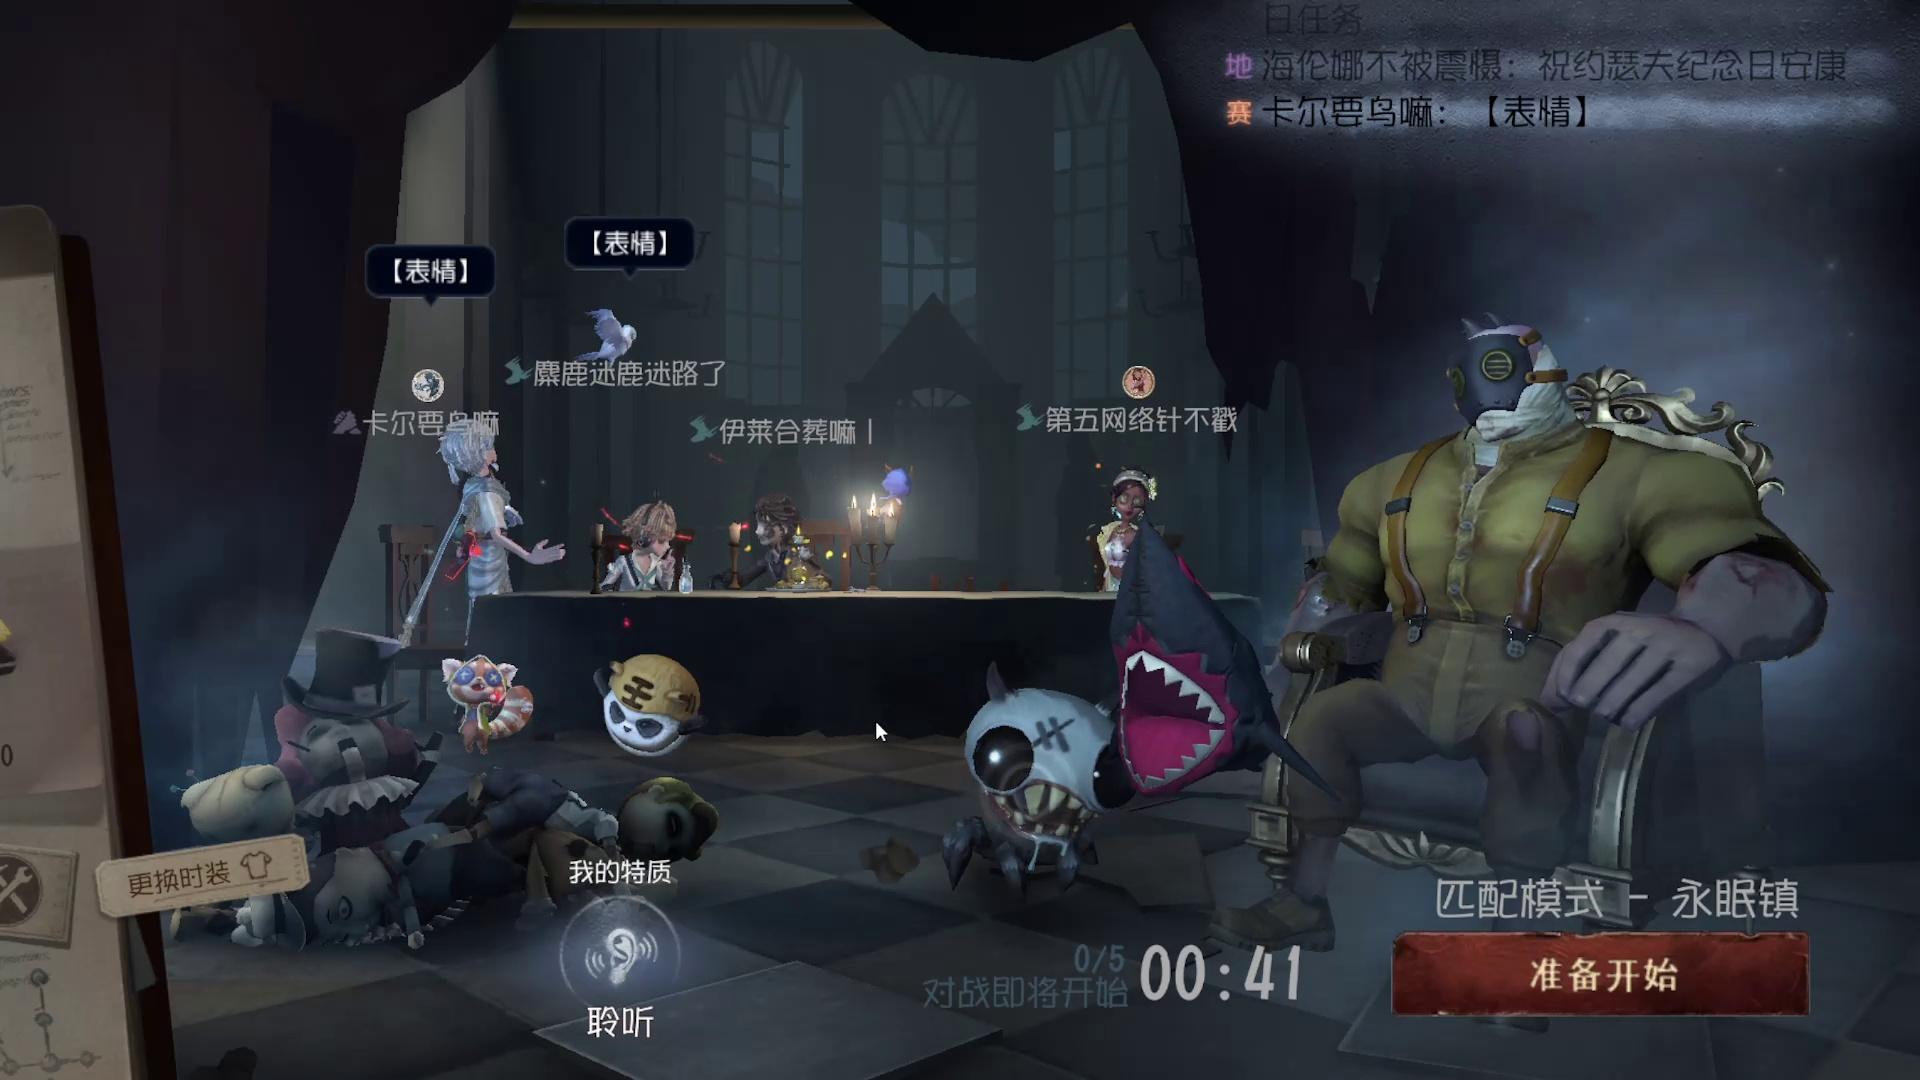准备开始: (1371, 916, 1847, 1033)
